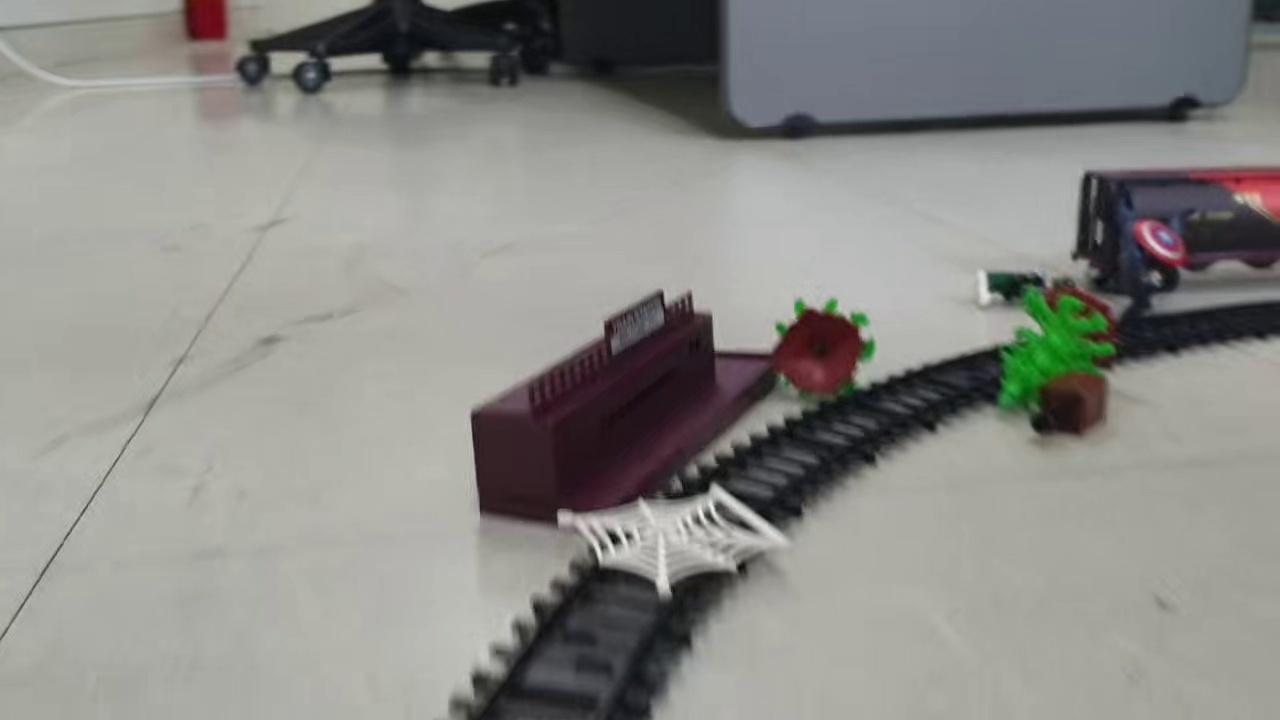box: (1032, 368, 1110, 439)
people: (1097, 180, 1185, 315), (975, 268, 1079, 307)
tree: (993, 285, 1122, 414), (771, 297, 876, 401)
web: (552, 479, 794, 602)
